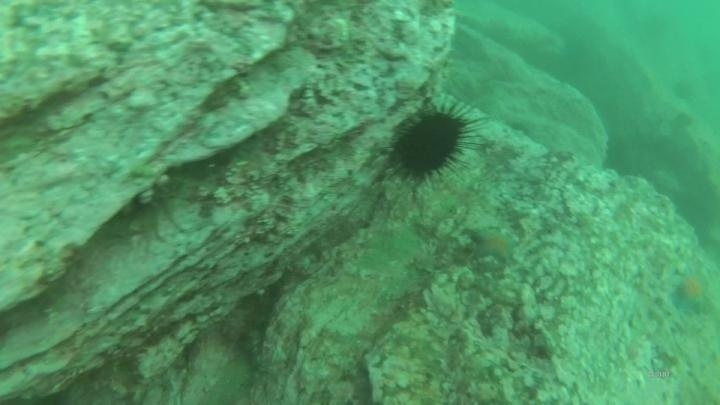echinus: (386, 99, 480, 186), (669, 76, 697, 103)
starfish: (466, 224, 521, 265), (669, 266, 714, 316)
